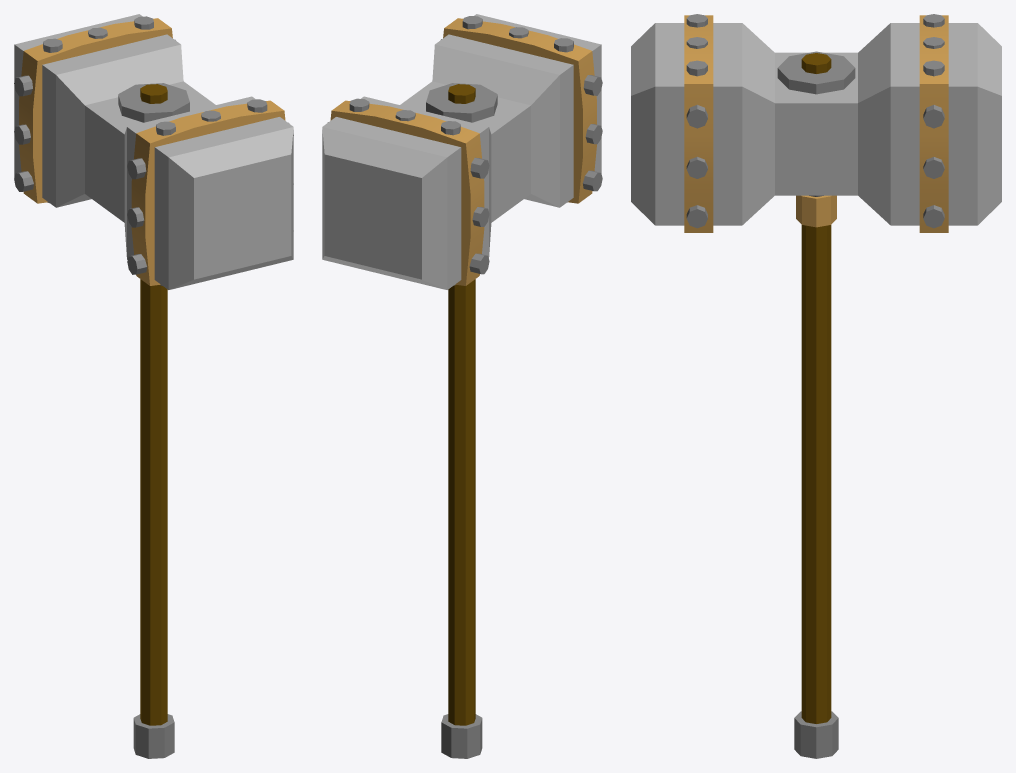
The model's file is aloong_hammer.fbx.
3 views of the same model, side by side, from view 1: azimuth 30°, elevation 25°; view 2: azimuth 150°, elevation 25°; view 3: azimuth 270°, elevation 25° (orthographic). The views are drawn at different scales.
Parts seen in each view (by area): view 1: hammer; view 2: hammer; view 3: hammer.
Boxes of the visible parts, x1=… form: hammer: x1=14, y1=14, x2=293, y2=758; hammer: x1=322, y1=14, x2=602, y2=758; hammer: x1=631, y1=14, x2=1001, y2=758.
Bounding box in the file's own units: 1.96 × 8.12 × 3.85.
